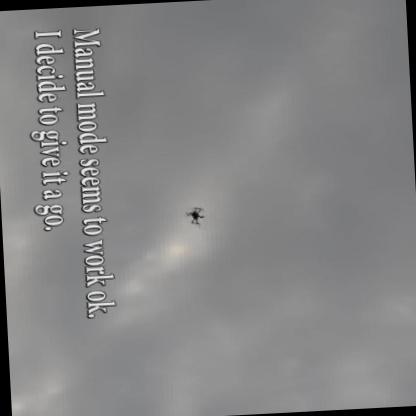drone: (180, 205, 209, 231)
